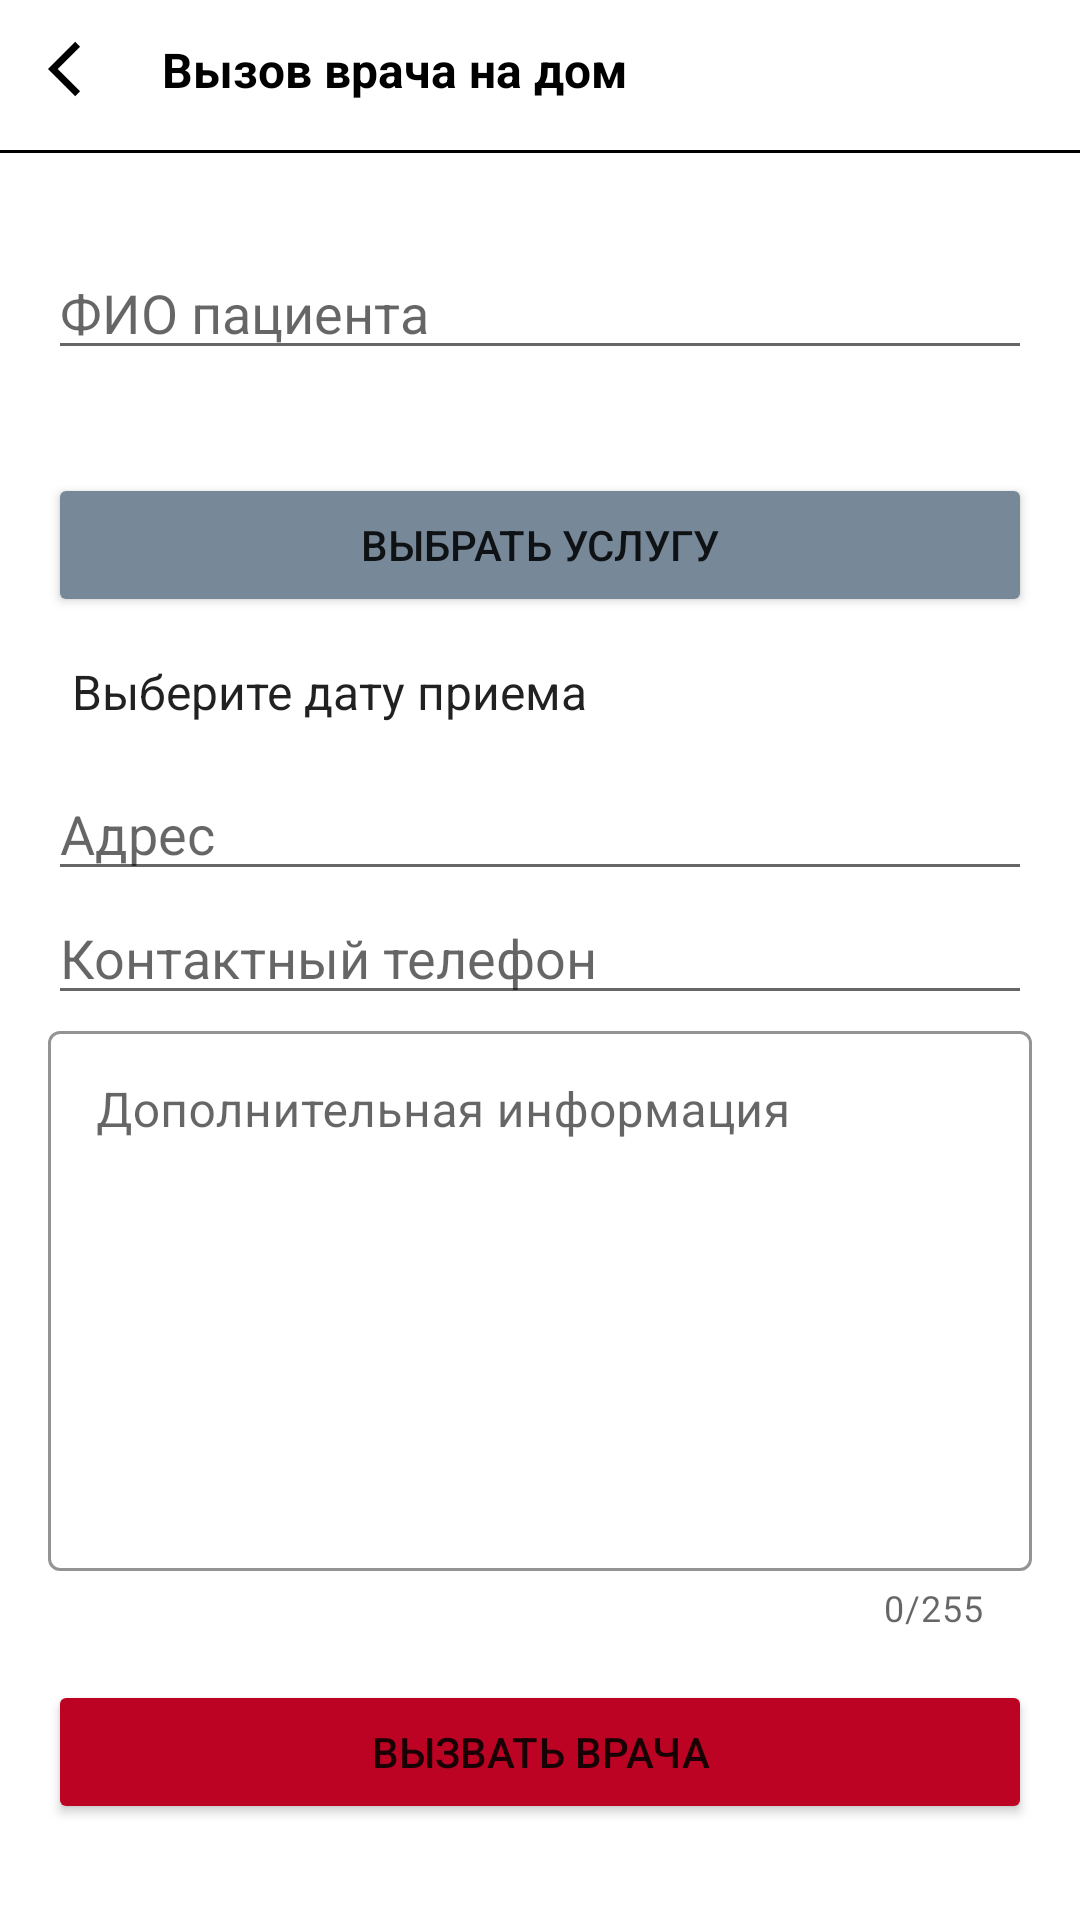

Icons on this 1080*1920 Android screen, each with the point to tap as point (x, y):
back arrow: point (64, 69)
